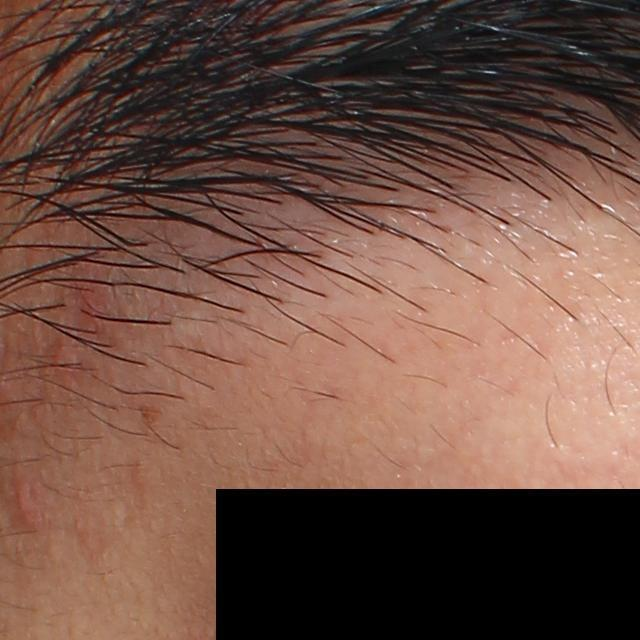papule: (11, 476, 42, 526)
